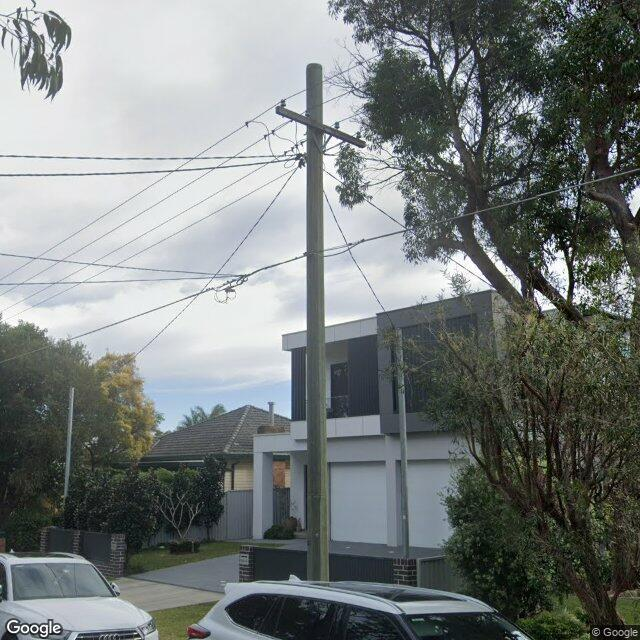crossarm: (276, 105, 366, 148)
steel-pole: (395, 326, 410, 560), (61, 386, 74, 509)
timber-pole: (305, 63, 328, 582)
